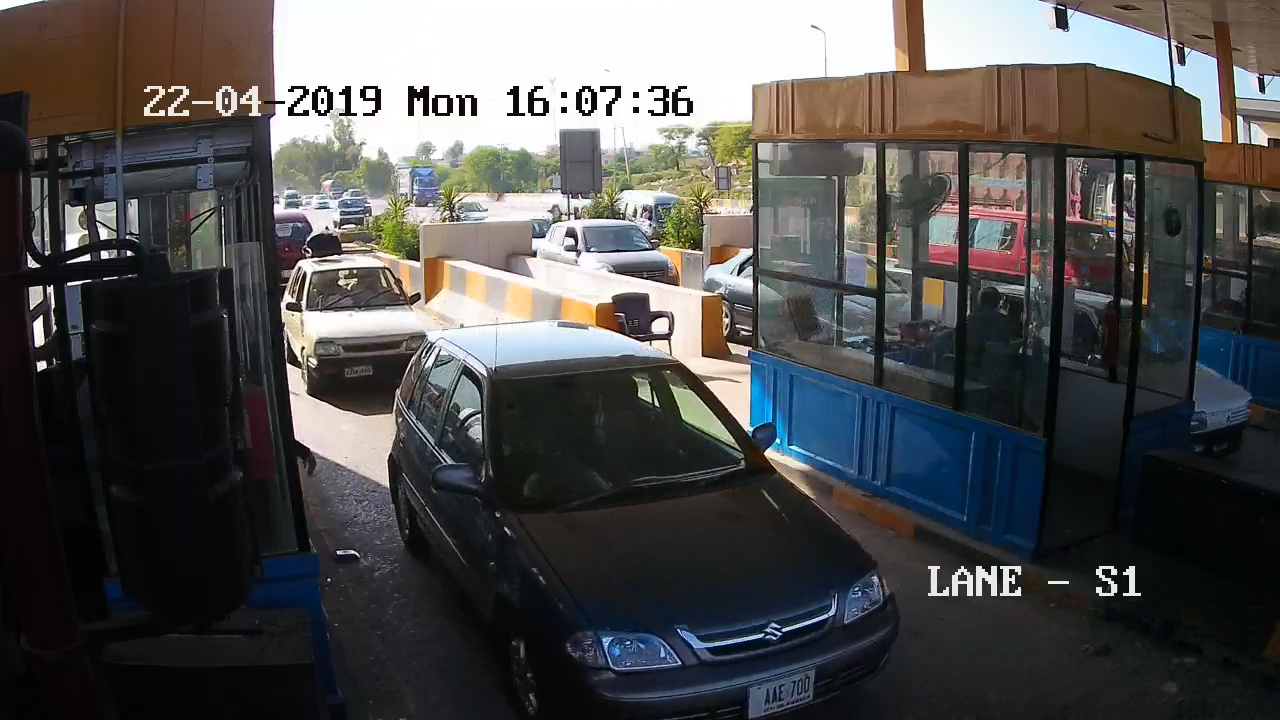Number Plate (Car): (750, 673, 816, 715)
